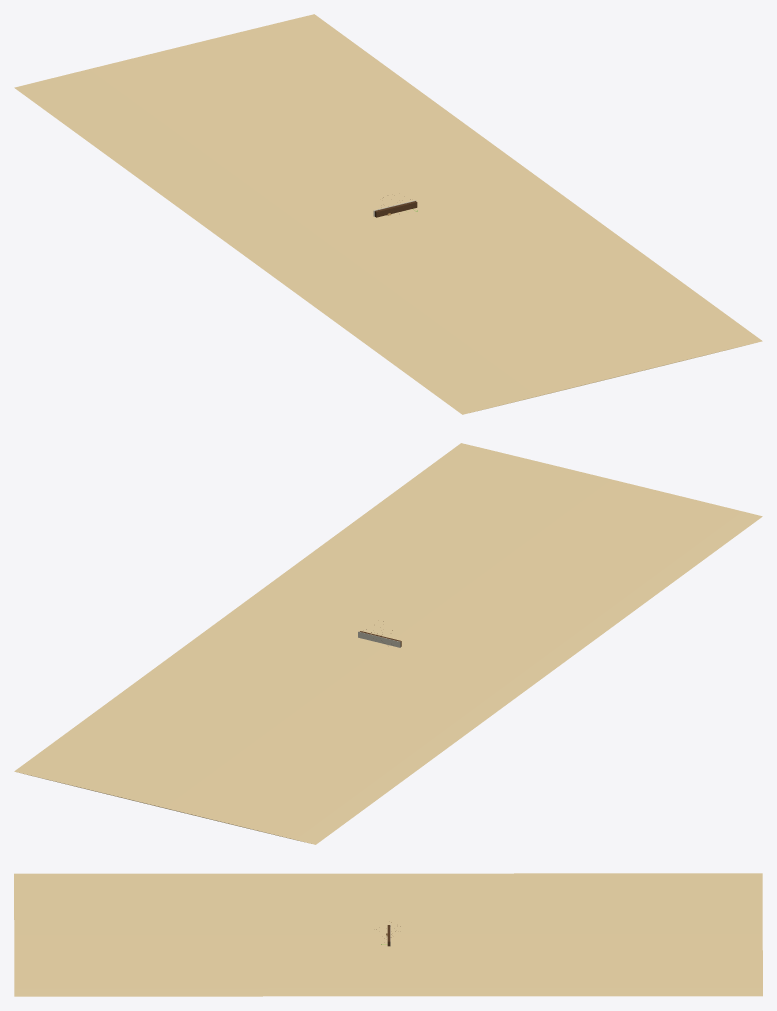
The model's file is germinacao_sementes_AR.glb.glb.
3 renders of one model, top to bottom at view 1: azimuth 30°, elevation 25°; view 2: azimuth 150°, elevation 25°; view 3: azimuth 270°, elevation 25°, orthographic. The views are drawn at different scales.
Visible parts, largest first — view 1: radicle; view 2: radicle; view 3: radicle.
Boxes of the visible parts, x1,y1,x2,y2 form: radicle: (14, 14, 762, 414); radicle: (14, 443, 762, 844); radicle: (14, 873, 762, 996).
Bounding box in the file's own units: 91.15 × 10.86 × 234.
